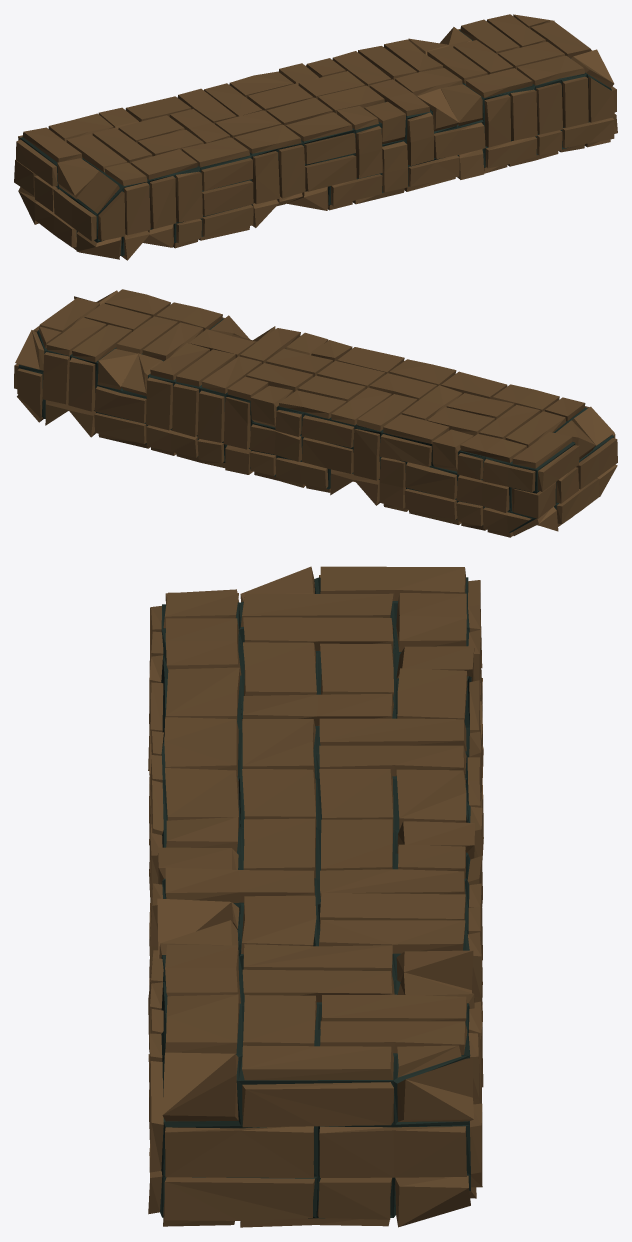
Rendered from i_flat_large.FBX.
3 views of the same model, one above another, from view 1: azimuth 30°, elevation 25°; view 2: azimuth 150°, elevation 25°; view 3: azimuth 270°, elevation 25° (orthographic). The views are drawn at different scales.
Visible parts, largest first — view 1: I_Flat_Large; view 2: I_Flat_Large; view 3: I_Flat_Large.
Boxes of the visible parts, x1=… form: I_Flat_Large: x1=14, y1=14, x2=617, y2=260; I_Flat_Large: x1=14, y1=289, x2=617, y2=537; I_Flat_Large: x1=148, y1=566, x2=483, y2=1227.
Size of the model in its own units: 806 by 119 by 222.
